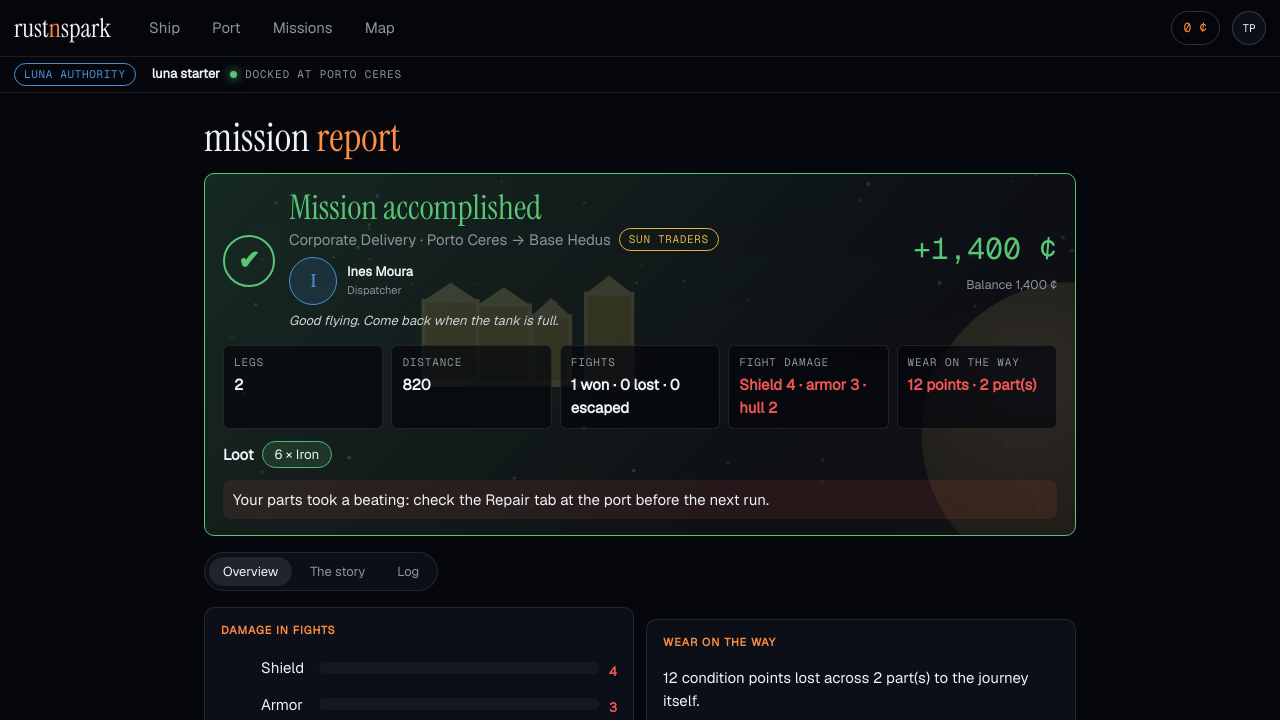
Scenario: report (S10.8) › renders the narrative chapters and opens the event popup
Click the tab "The story".
click(338, 571)  # box top-left (296, 557), bottom-right (379, 586)
(page scrolled)
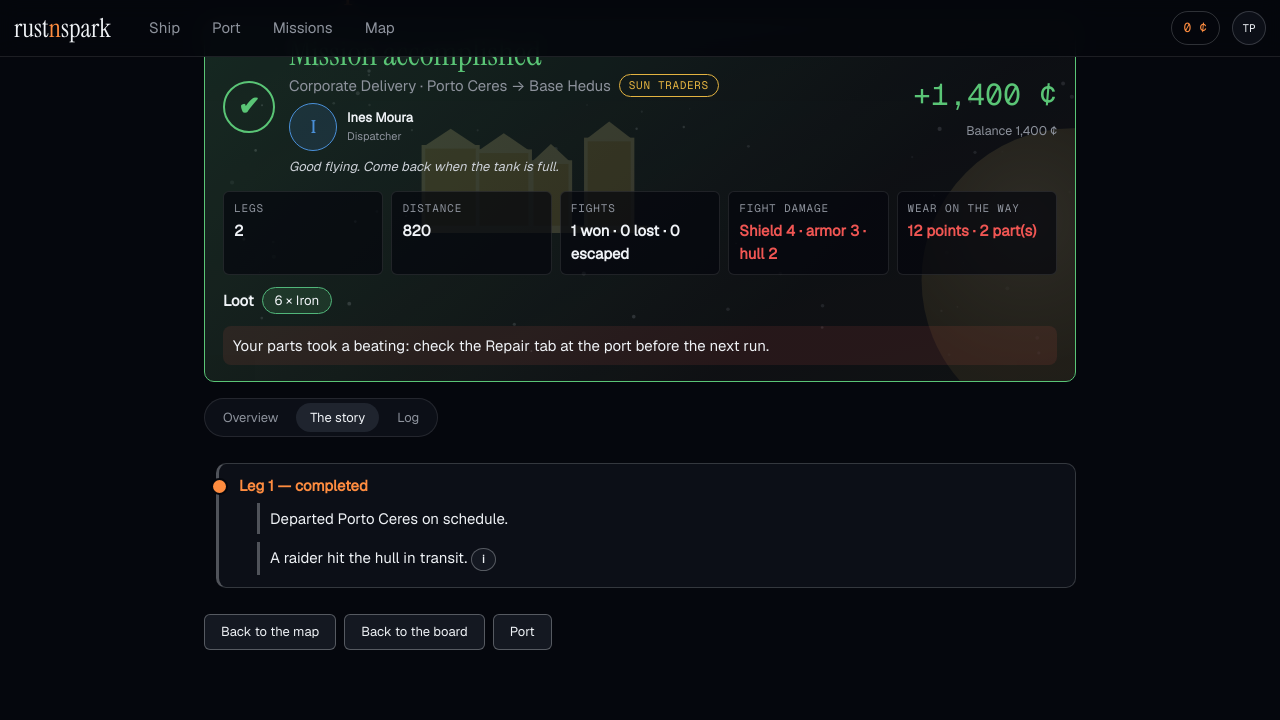
Expected: the text "Leg 1 — completed" is shown, top-left (239, 476), bottom-right (368, 495)
Expected: the text "Departed Porto Ceres on schedule." is shown, top-left (270, 509), bottom-right (508, 528)
Expected: the text "A raider hit the hull in transit." is shown, top-left (270, 548), bottom-right (467, 567)
Click the button named "Event details".
click(483, 559)  # box top-left (471, 548), bottom-right (496, 571)
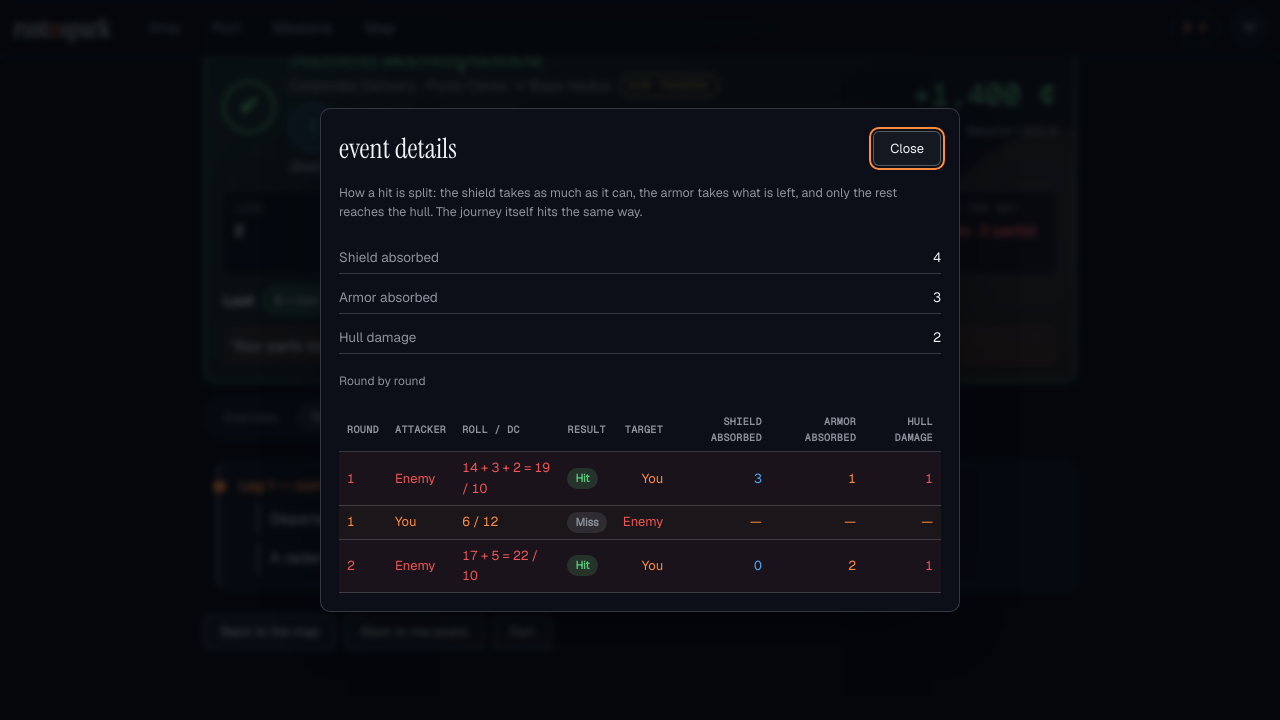
Expected: the dialog "Event details" shows "Shield absorbed", top-left (339, 248), bottom-right (439, 266)
Expected: the dialog "Event details" shows "Armor absorbed", top-left (339, 288), bottom-right (438, 306)
Expected: the dialog "Event details" shows "Hull damage", top-left (339, 328), bottom-right (416, 346)
Click the button "Close".
click(907, 149)  # box top-left (873, 131), bottom-right (941, 166)
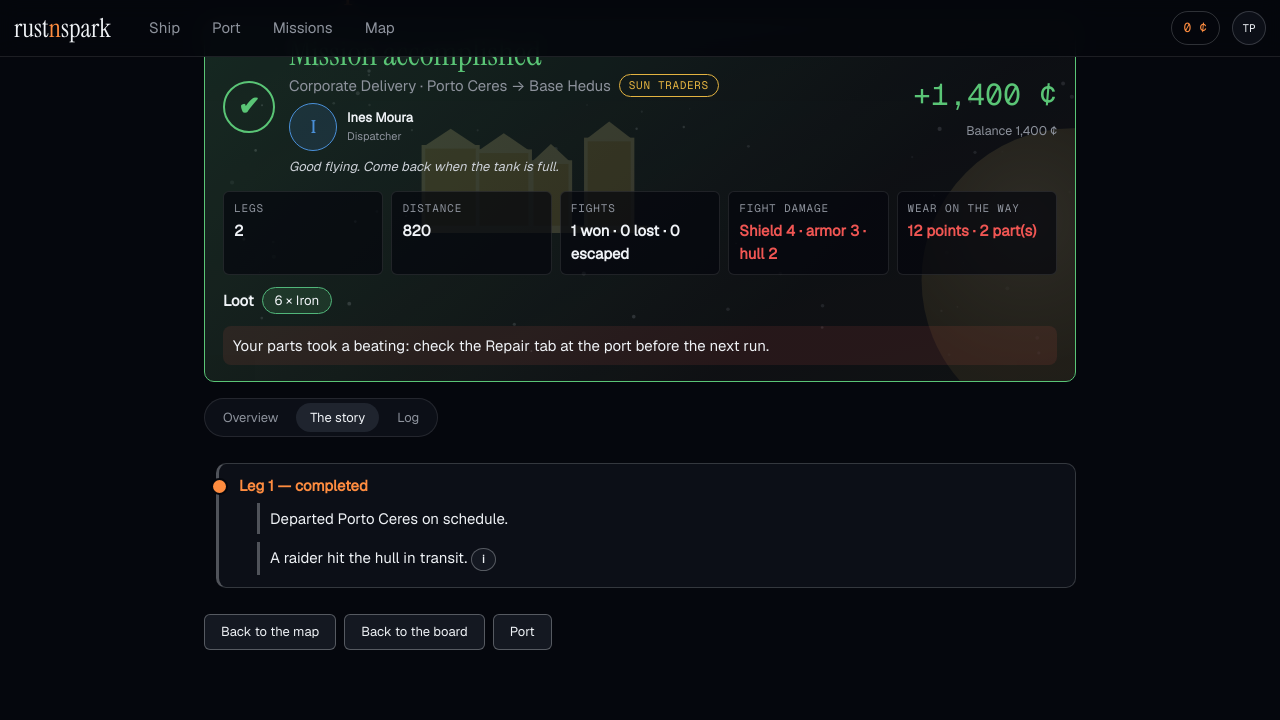
Expected: the heading "Event details" is gone
